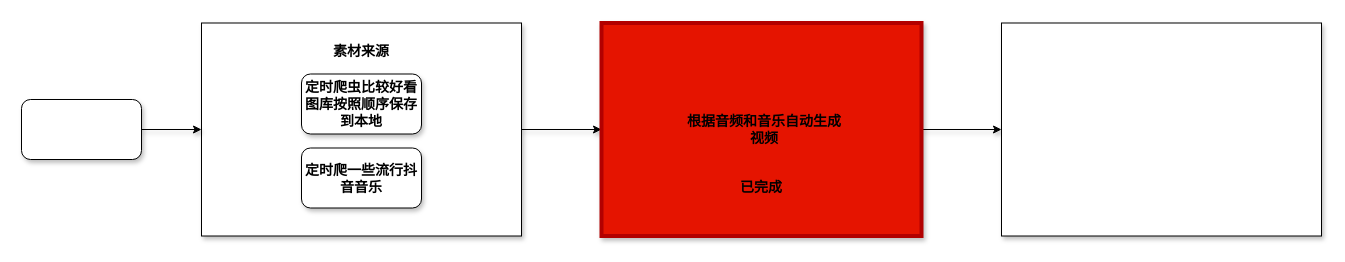
This 1345x262 diagram has some shape labels left out. The centre of each missing label's shape, as x and y in pixels:
"自动卡点短视频方案" belongs at (x=82, y=130).
"自动发布抖音/小红书等平台" belongs at (x=1162, y=130).
